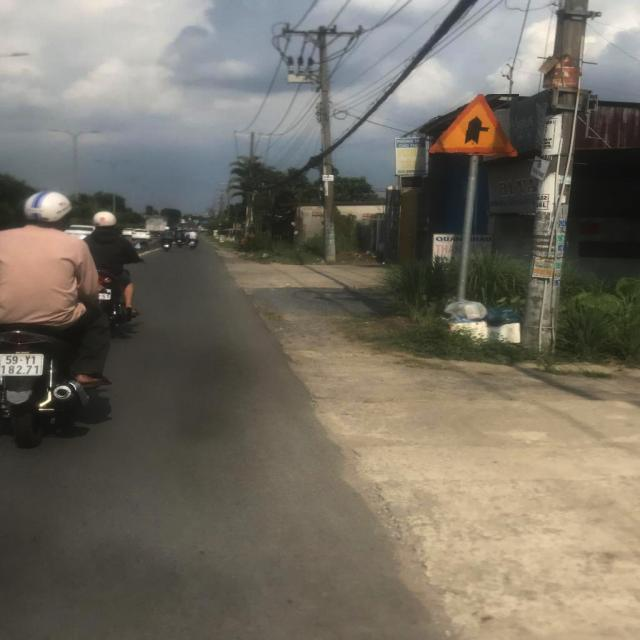giao_nhau_voi_duong_khong_uu_tien: (429, 94, 519, 157)
